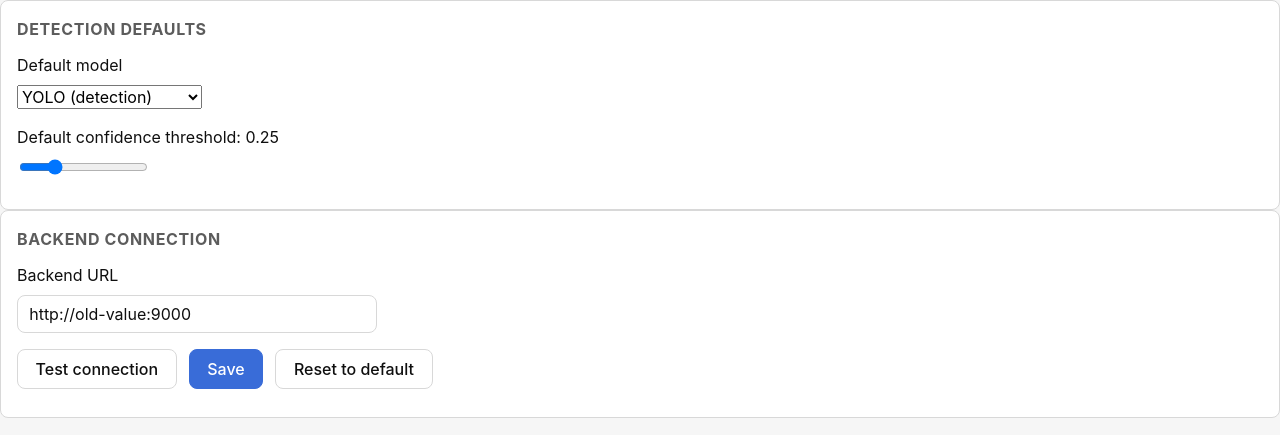
Scenario: SettingsPage › Reset to default clears the override
Click the button "Reset to default" at (354, 369), box [275,349,432,389]
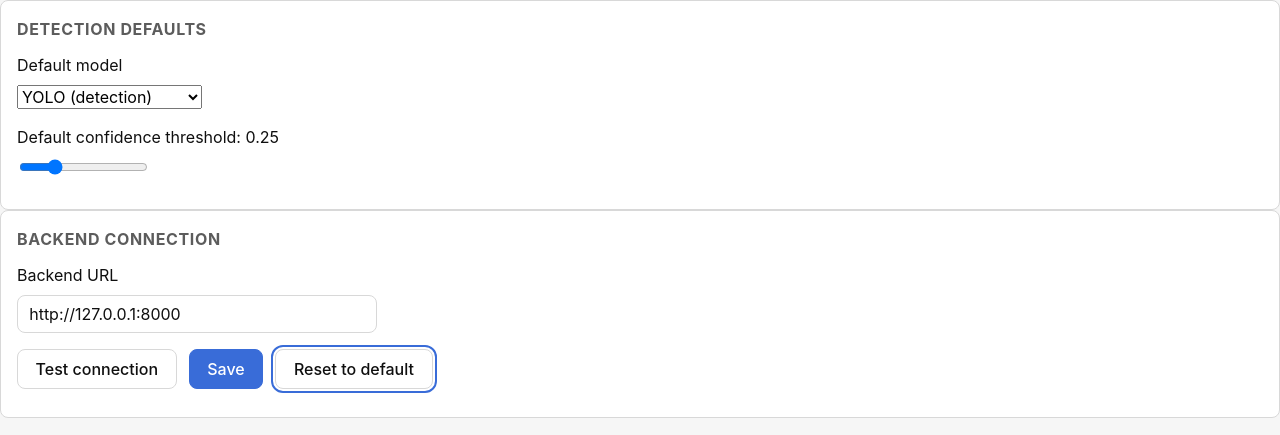
Check: the field labelled "Backend URL" holds "http://127.0.0.1:8000", box [17,295,377,333]
